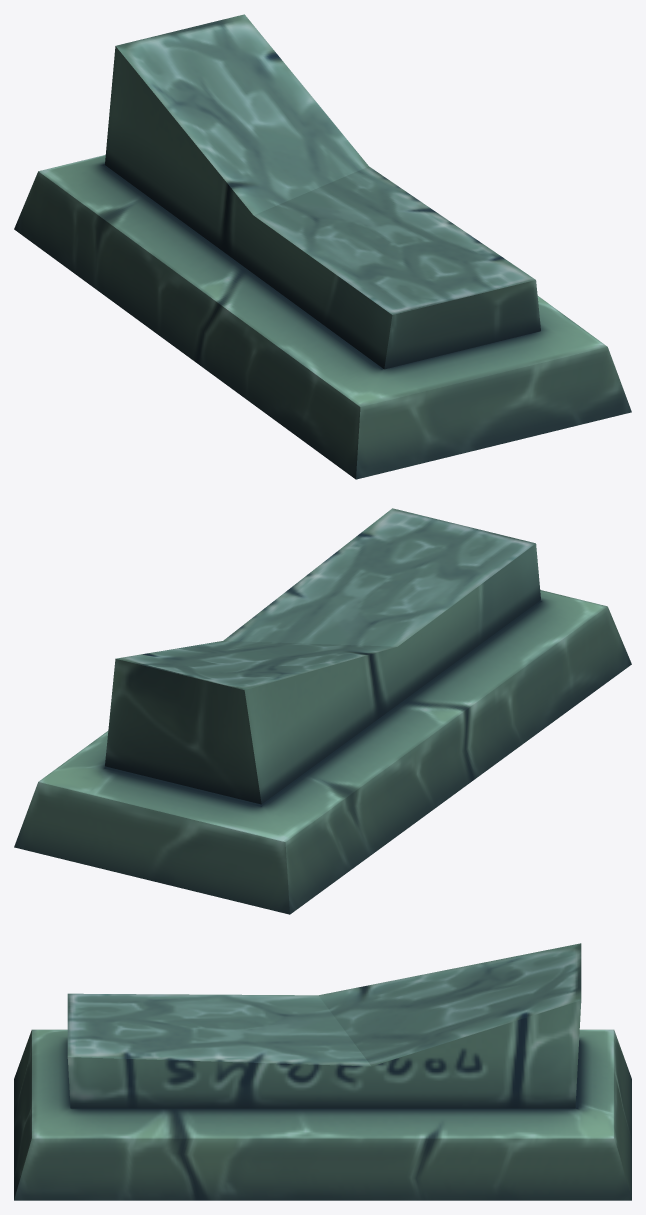
Rendered from tombstone_small_broken_01.fbx.
3 renders of one model, top to bottom at view 1: azimuth 30°, elevation 25°; view 2: azimuth 150°, elevation 25°; view 3: azimuth 270°, elevation 25°, orthographic. The views are drawn at different scales.
Visible parts, largest first — view 1: tombstone_small_broken_01; view 2: tombstone_small_broken_01; view 3: tombstone_small_broken_01.
Part boxes in pixels (left/top/right/bottom): tombstone_small_broken_01: left=14, top=14, right=631, bottom=479; tombstone_small_broken_01: left=14, top=508, right=631, bottom=914; tombstone_small_broken_01: left=14, top=943, right=631, bottom=1200.
Size of the model in its own units: 4.14 by 2.67 by 8.88.
